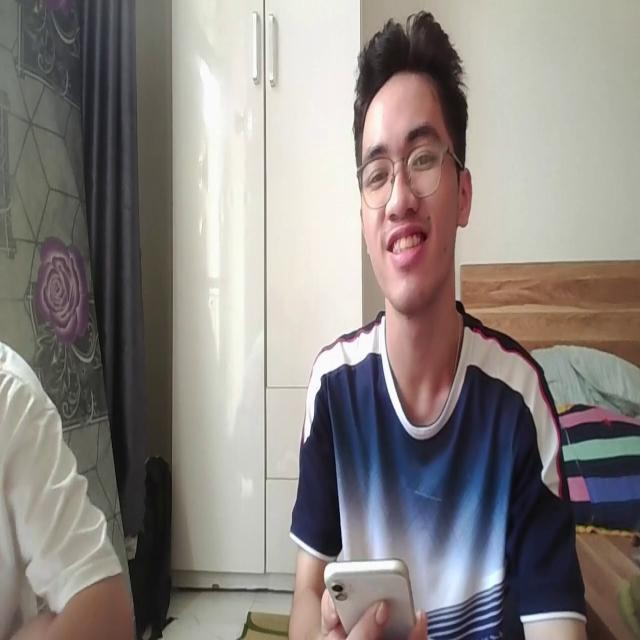extra_person: (0, 334, 130, 640)
student: (292, 6, 590, 640)
